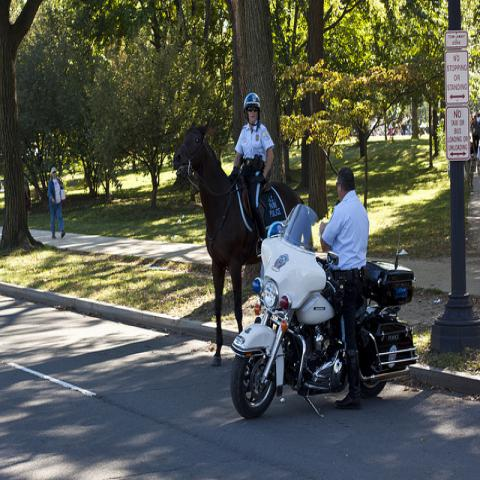motorcycle: (231, 206, 420, 423)
